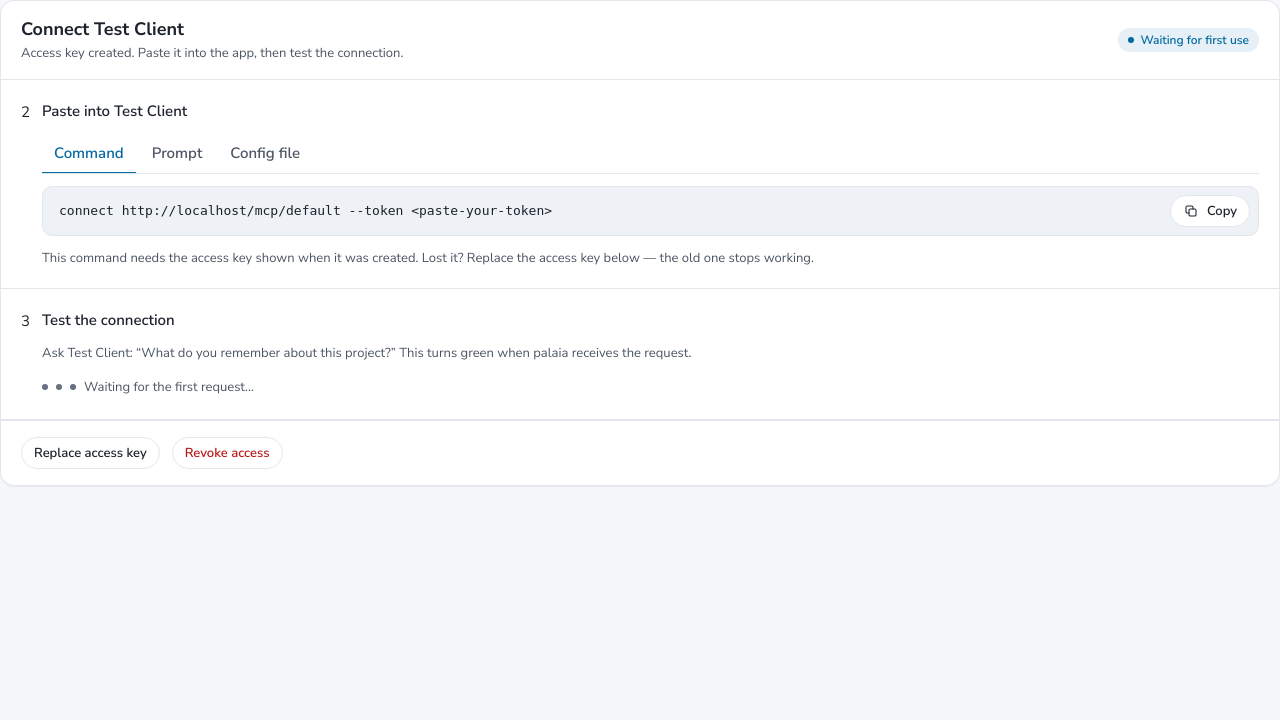
Test case: revoking and replacing (report §5.5) › keeps the new key on screen when palaia then can't list the old ones
The image size is (1280, 720).
Click the button "Replace access key" at coordinates (90, 453), box [21,437,160,469]
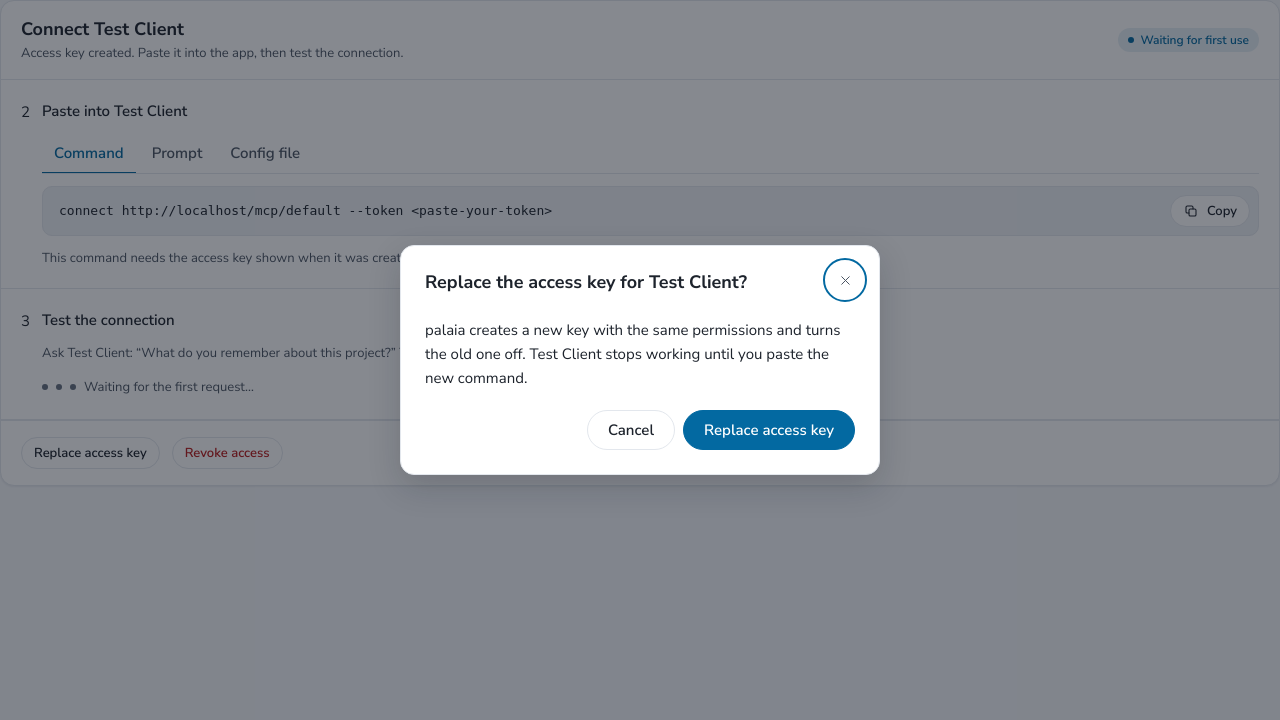
Click the button "Replace access key" at coordinates (769, 430), box [683,410,855,450]
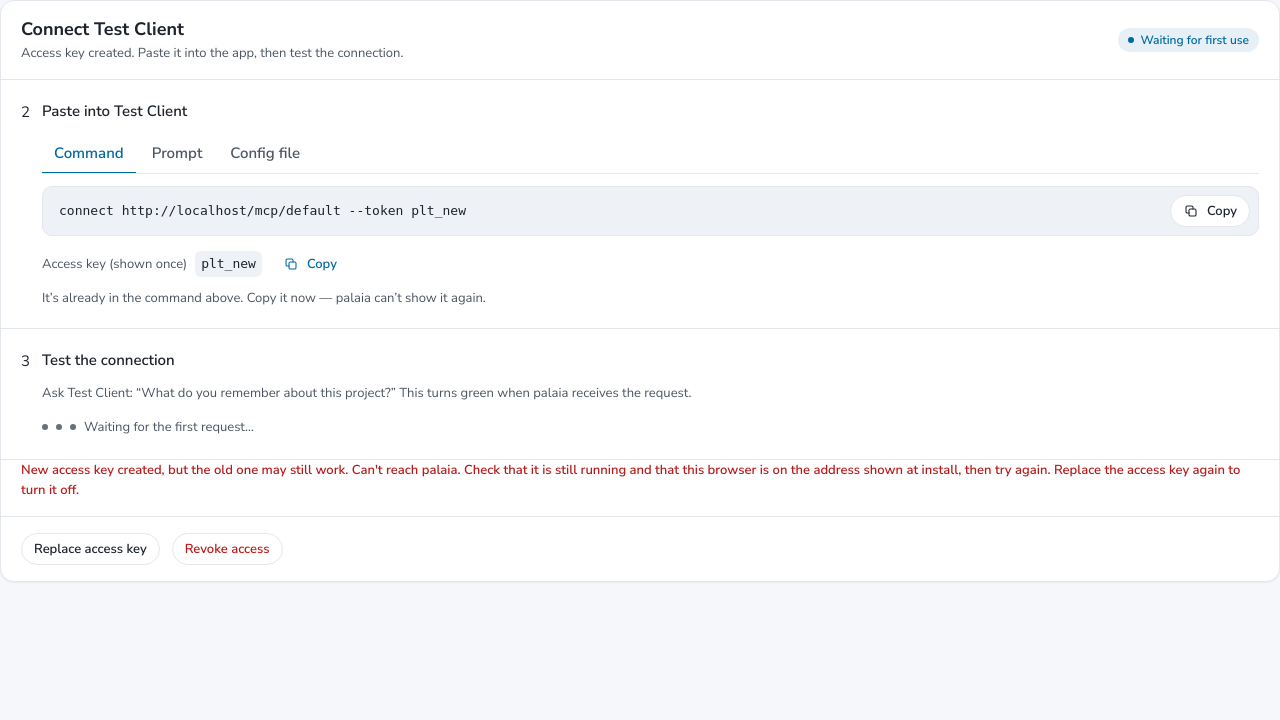
Result: the text "--token plt_new" is shown at [59,203,466,218]
Result: the text "plt_new" is shown at [195,251,262,277]
Result: the 2nd message shows "the old one may still work" at [21,461,1240,499]
